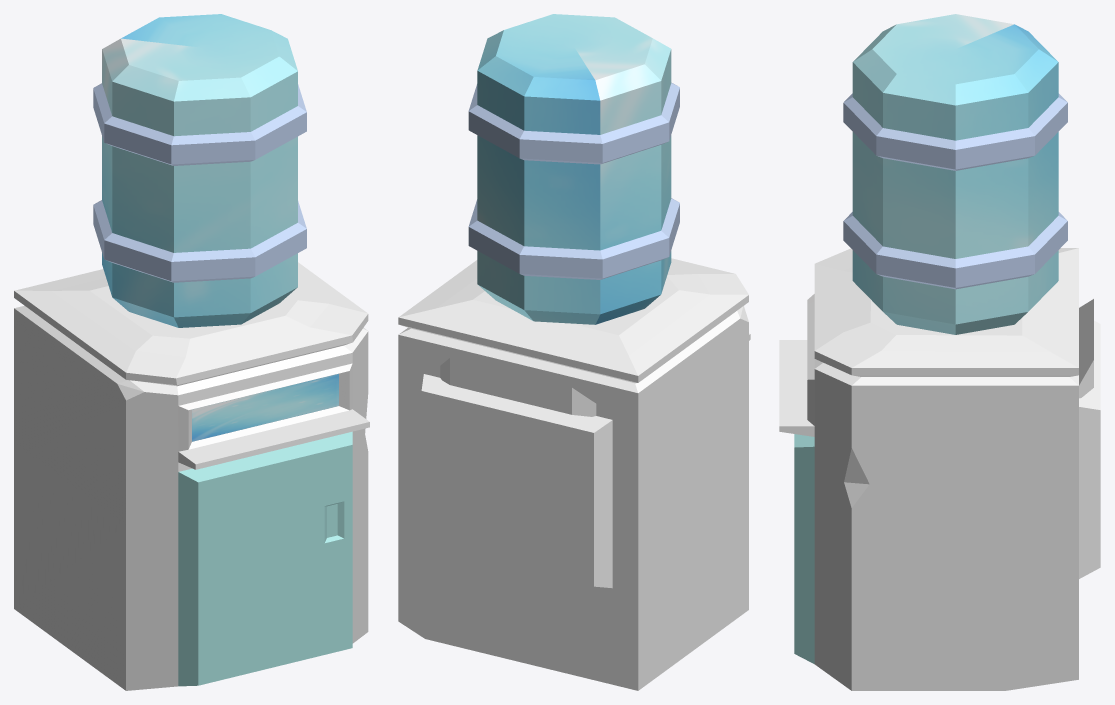
File: GooMachine.fbx
3 renders of one model, left to right at view 1: azimuth 30°, elevation 25°; view 2: azimuth 150°, elevation 25°; view 3: azimuth 270°, elevation 25°, orthographic. The views are drawn at different scales.
Visible parts, largest first — view 1: Body, Bucket Glas, Door, Bucket Rings, Window; view 2: Body, Bucket Glas, Bucket Rings; view 3: Body, Bucket Glas, Bucket Rings, Door.
Boxes of the visible parts, x1,y1,x2,y2 form: Body: (14, 262, 369, 690); Bucket Glas: (102, 14, 297, 327); Door: (178, 431, 352, 686); Bucket Rings: (93, 83, 306, 282); Window: (192, 373, 338, 441); Body: (398, 258, 750, 690); Bucket Glas: (477, 14, 671, 324); Bucket Rings: (468, 82, 679, 279); Body: (779, 248, 1100, 690); Bucket Glas: (852, 14, 1058, 334); Bucket Rings: (843, 93, 1067, 289); Door: (794, 434, 814, 663).
Bounding box in the file's own units: 88.05 × 200 × 99.58.
